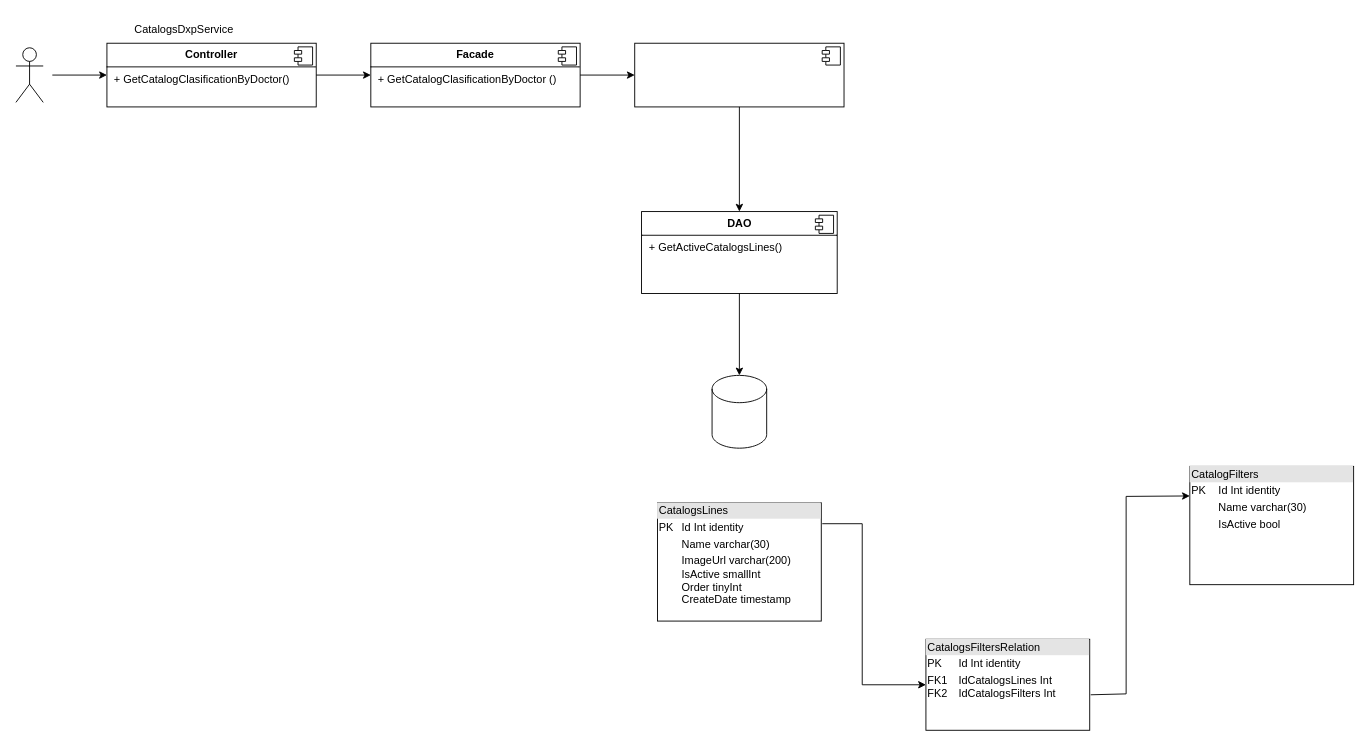
This 1370x746 diagram has some shape labels left out. Here are the shapes that lost their labels. From the top down, the box of each, then its label:
(15, 47, 43, 102): Actor
(634, 42, 844, 107): Service + GetCatalogClasificationByDoctor ()
(711, 374, 767, 448): Postgressql
